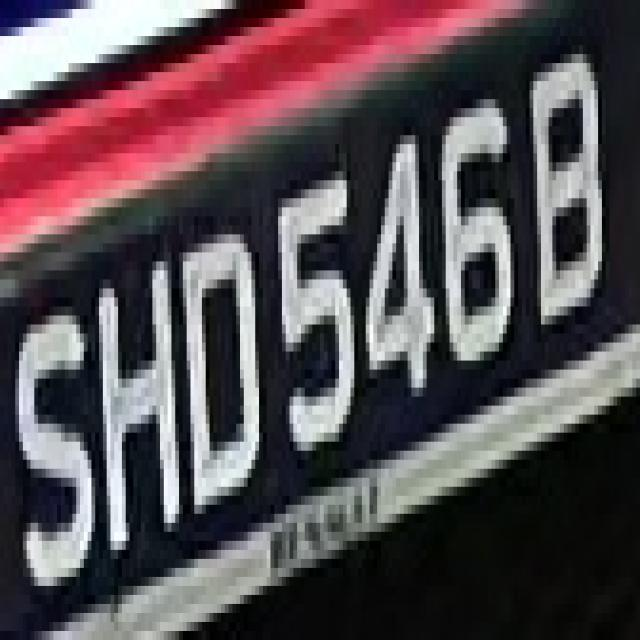4: (347, 63, 434, 442)
5: (274, 153, 362, 487)
6: (430, 54, 510, 406)
B: (518, 27, 610, 352)
D: (156, 198, 267, 514)
H: (95, 216, 183, 577)
S: (15, 270, 91, 595)
